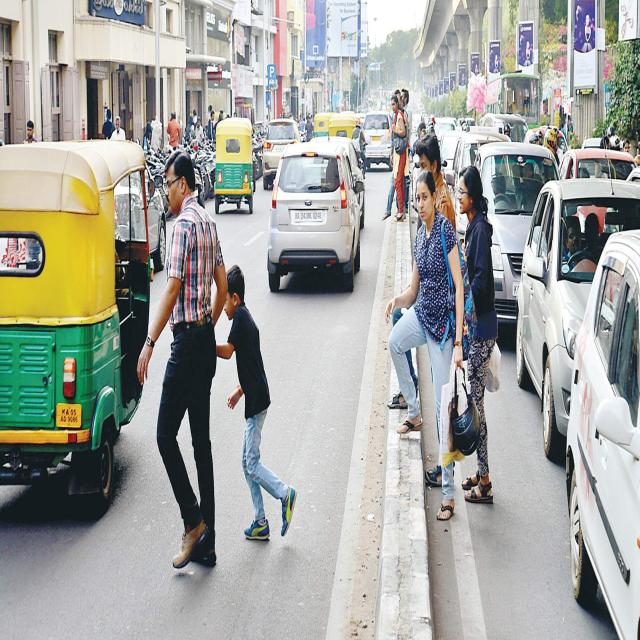body: (135, 142, 231, 572), (385, 171, 465, 523), (385, 136, 457, 489), (213, 263, 299, 545), (511, 95, 640, 216), (456, 164, 498, 506), (382, 89, 409, 223), (391, 92, 408, 225), (561, 215, 600, 272), (400, 88, 412, 214), (182, 103, 216, 144), (583, 212, 604, 265), (351, 117, 367, 181), (408, 138, 419, 210), (166, 109, 181, 151), (410, 115, 436, 138), (287, 109, 315, 128), (524, 134, 540, 166), (101, 108, 116, 140), (457, 106, 473, 136), (543, 128, 558, 157), (110, 115, 126, 141), (22, 120, 38, 143), (142, 121, 152, 154), (218, 109, 240, 122), (305, 113, 314, 143), (195, 116, 204, 143), (208, 110, 215, 142), (504, 123, 514, 142), (536, 130, 544, 146), (396, 104, 404, 117)
